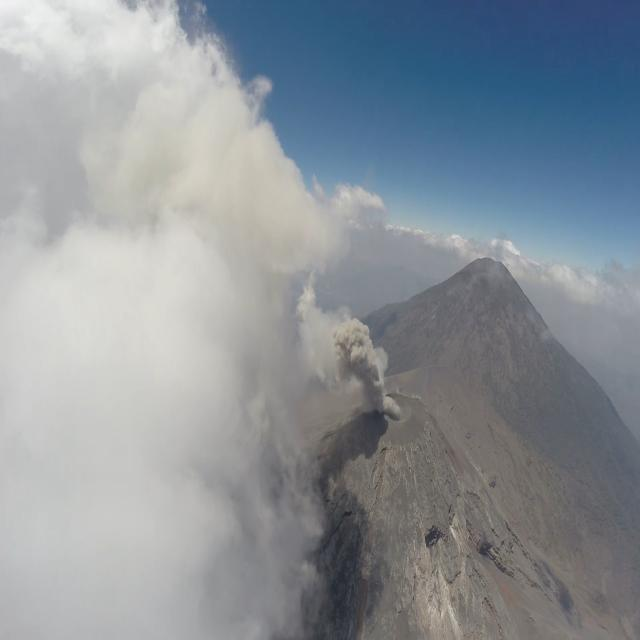Plume: (324, 299, 394, 426)
Summit: (297, 382, 527, 640)
